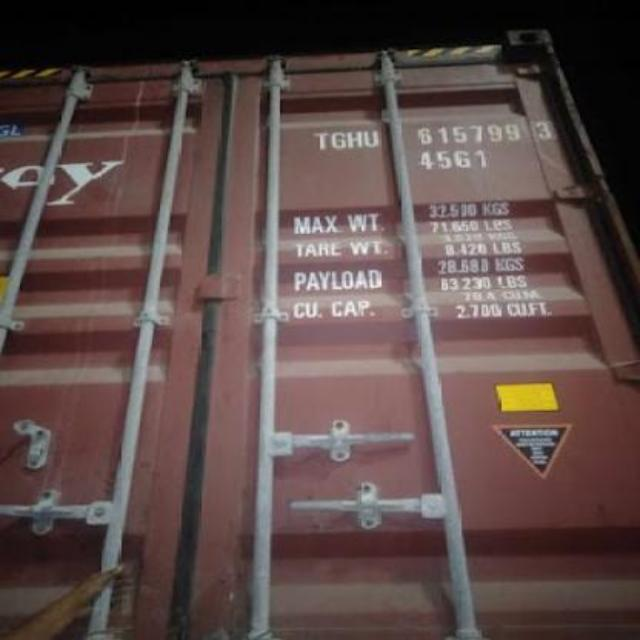1: (438, 113, 448, 149)
3: (532, 114, 552, 142)
5: (450, 118, 468, 144)
6: (416, 118, 432, 150)
7: (468, 116, 486, 146)
9: (502, 118, 522, 144), (488, 120, 504, 144)
G: (330, 127, 348, 153)
H: (346, 126, 362, 154)
T: (312, 125, 330, 151)
U: (362, 126, 380, 156)
